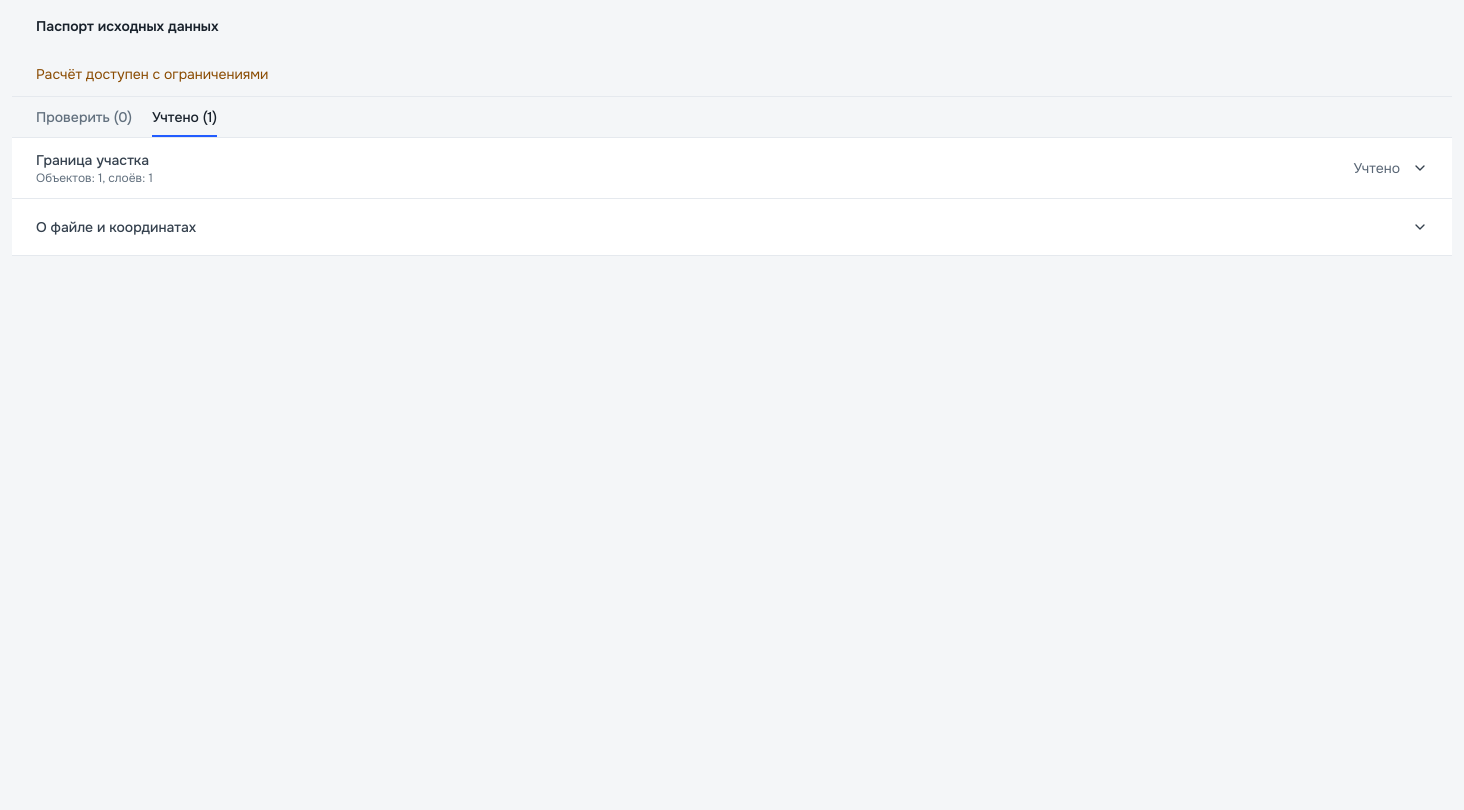
Test: DataPassportPanel › distinguishes prepared areas, usable lines and addressed losses
This screenshot has width=1464, height=810.
Step 1. Click the button "Граница участка Объектов: 1, слоёв: 1 Учтено" → (92, 160), box [12,138,1452,198]
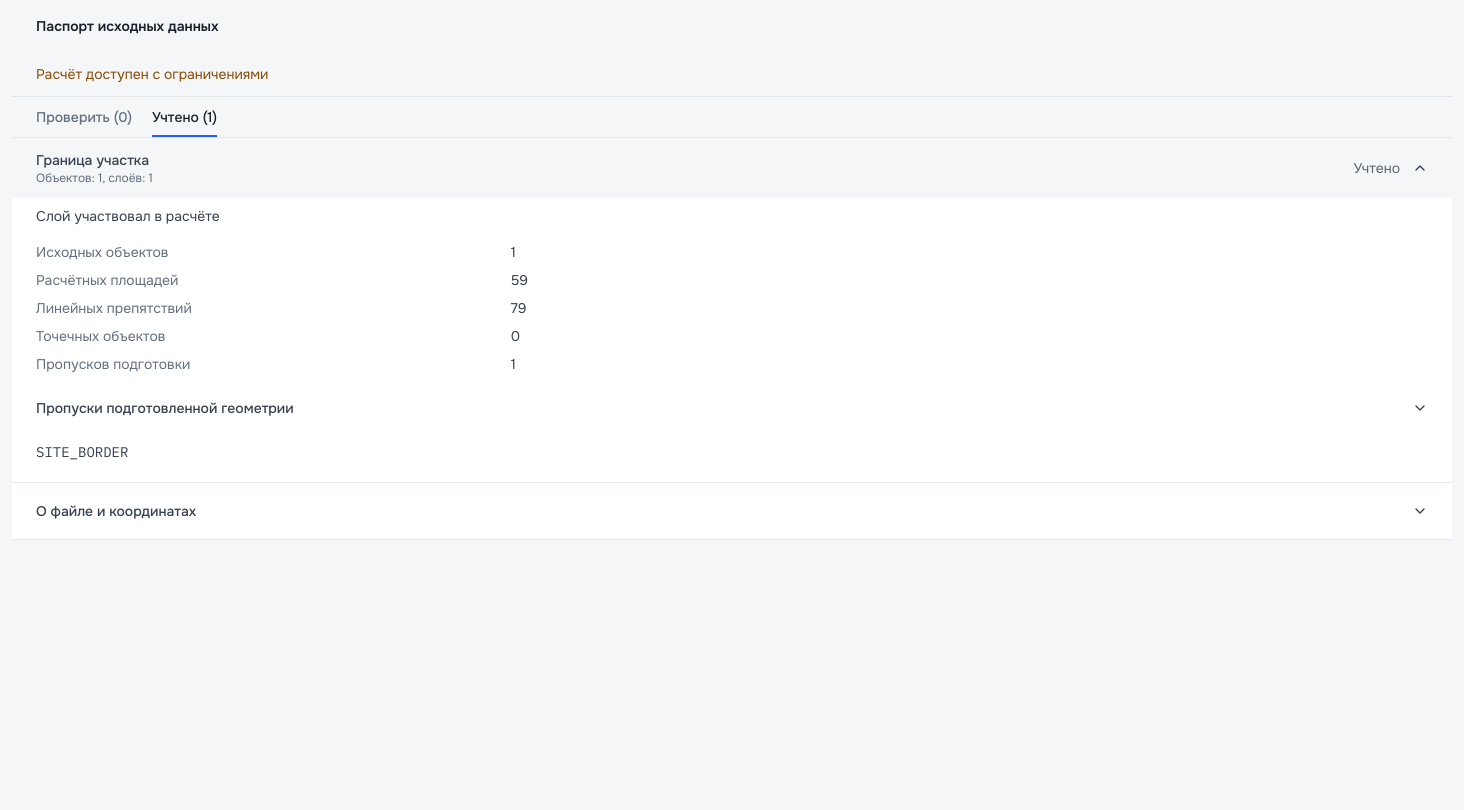
Now the text "Расчётных площадей" is shown, box [36,271,178,289]
Now the text "59" is shown, box [511,271,528,289]
Now the text "Линейных препятствий" is shown, box [36,299,192,317]
Step 2. Click the button "Пропуски подготовленной геометрии" → (165, 408), box [36,390,1428,426]
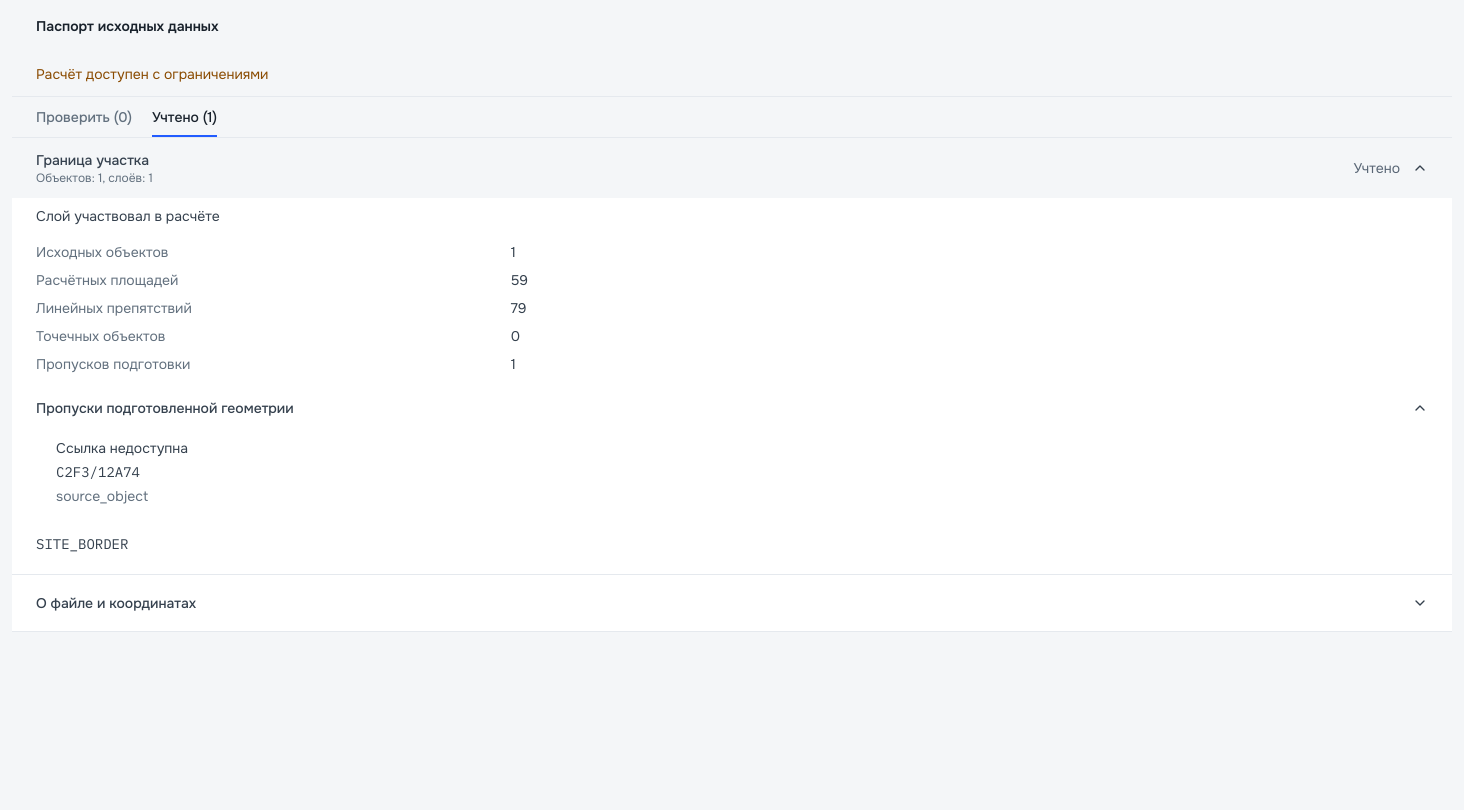
Now the text "C2F3/12A74" is shown, box [56,463,140,481]
Now the text "Ссылка недоступна" is shown, box [56,439,188,457]
